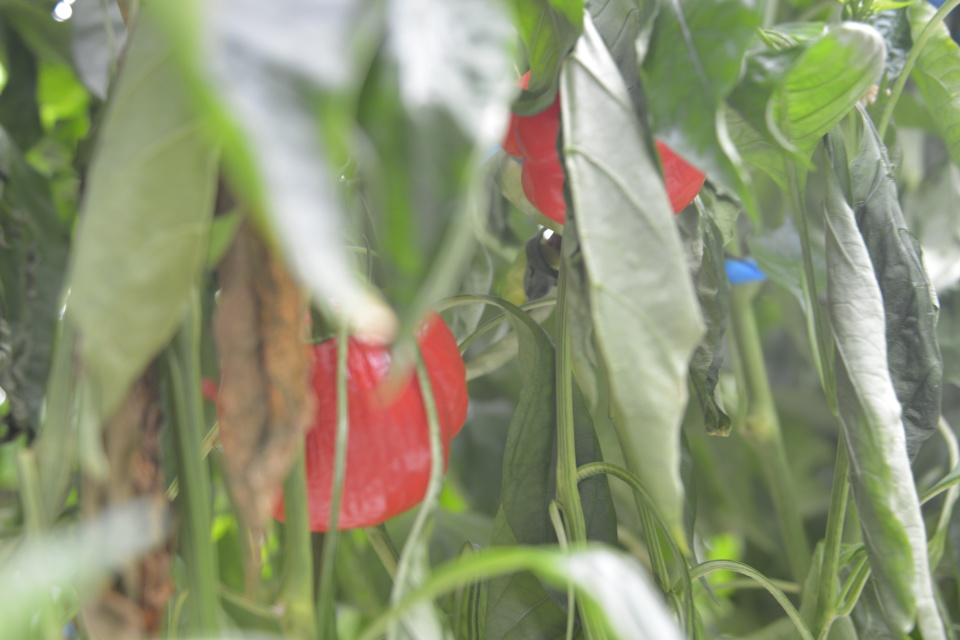fruit: (215, 303, 471, 535), (497, 65, 708, 227)
